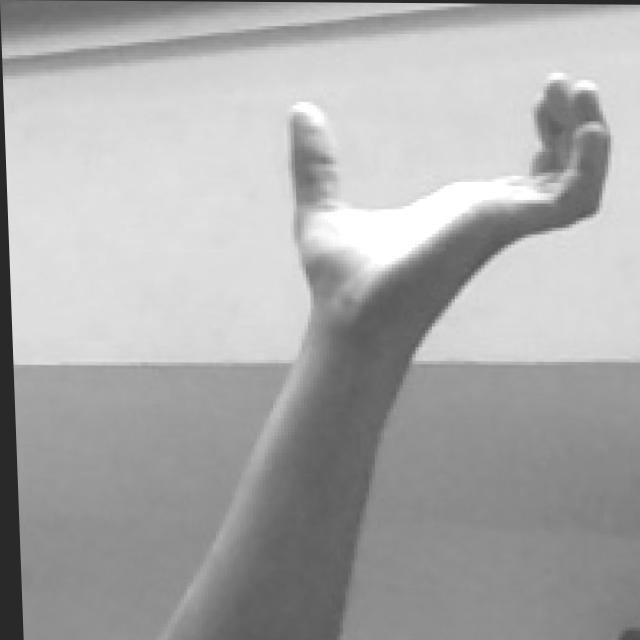space: (272, 69, 627, 319)
